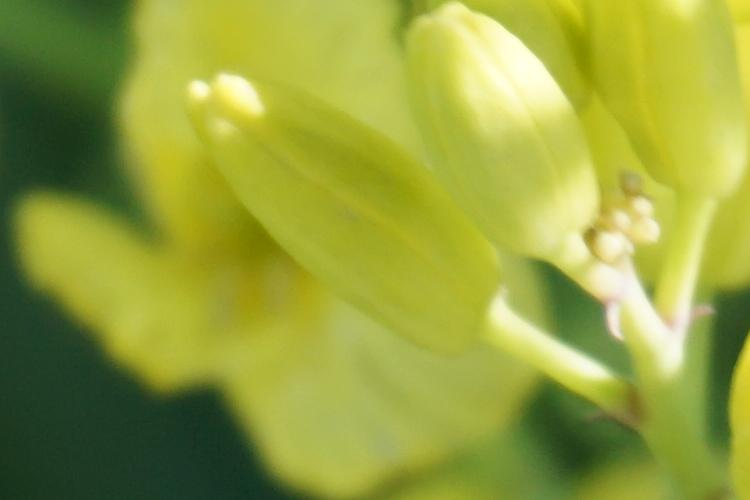bud: (191, 73, 506, 355), (402, 10, 598, 264)
